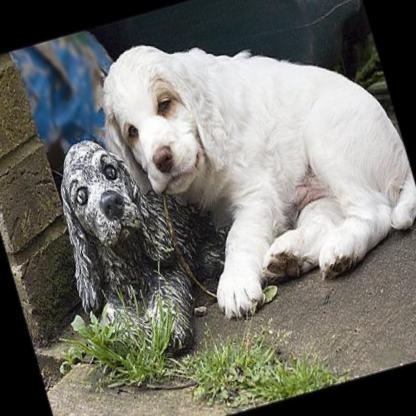clumber: (82, 0, 416, 351), (38, 108, 258, 372)
